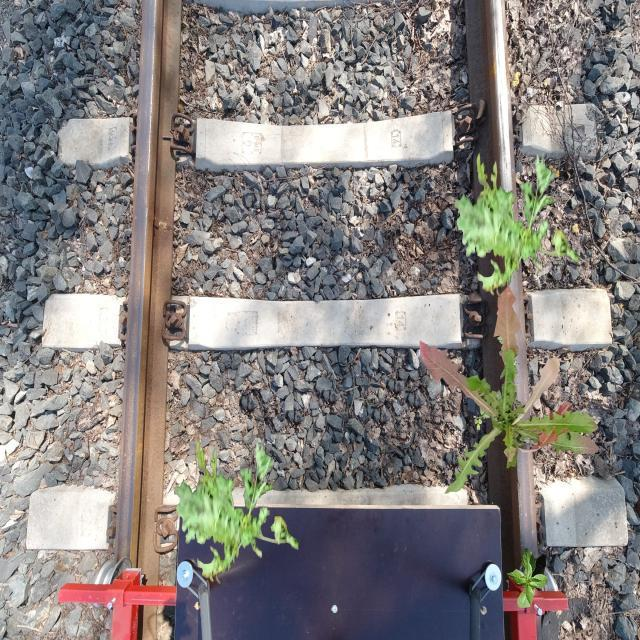Plant: (420, 285, 600, 493), (174, 438, 299, 585), (454, 151, 579, 298), (473, 327, 522, 430), (507, 548, 549, 608)
